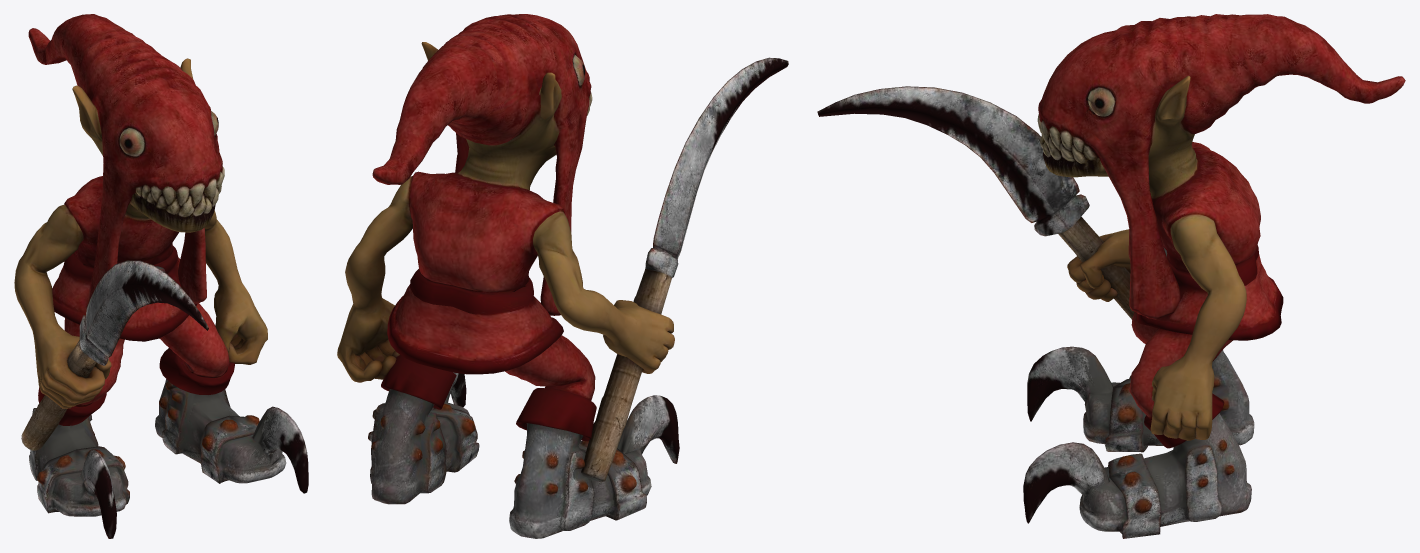
Rendered from MZ4250 - Madcap (gorey).glb.
The picture shows the model from 3 angles, left to right: view 1: azimuth 30°, elevation 25°; view 2: azimuth 150°, elevation 25°; view 3: azimuth 270°, elevation 25°; orthographic projection. The views are drawn at different scales.
Parts seen in each view (by area): view 1: Mad Cap. sculptedblend.001; view 2: Mad Cap. sculptedblend.001; view 3: Mad Cap. sculptedblend.001.
Boxes of the visible parts, box(x1,y1,x2,y2) form: Mad Cap. sculptedblend.001: box(14, 14, 308, 538); Mad Cap. sculptedblend.001: box(337, 14, 788, 538); Mad Cap. sculptedblend.001: box(817, 14, 1405, 538).
Size of the model in its own units: 20.83 by 33.46 by 38.81.
1 material, 1 textured.
